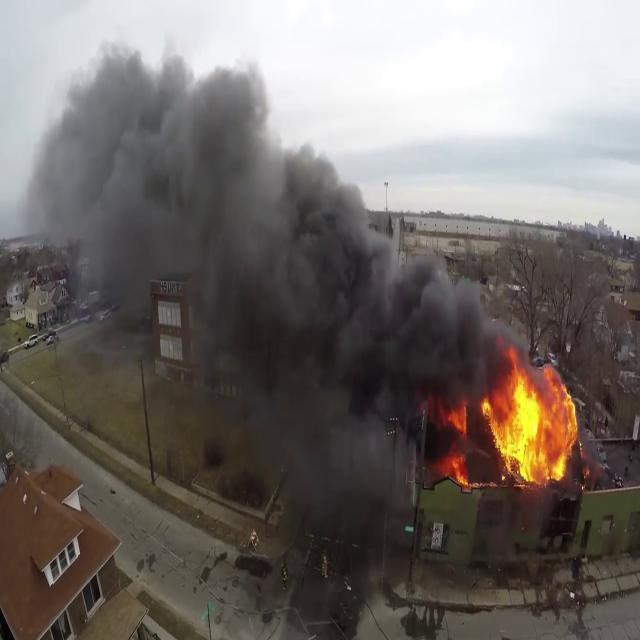Fire: (478, 352, 582, 488), (440, 398, 472, 488)
Smoke: (21, 28, 504, 441)
